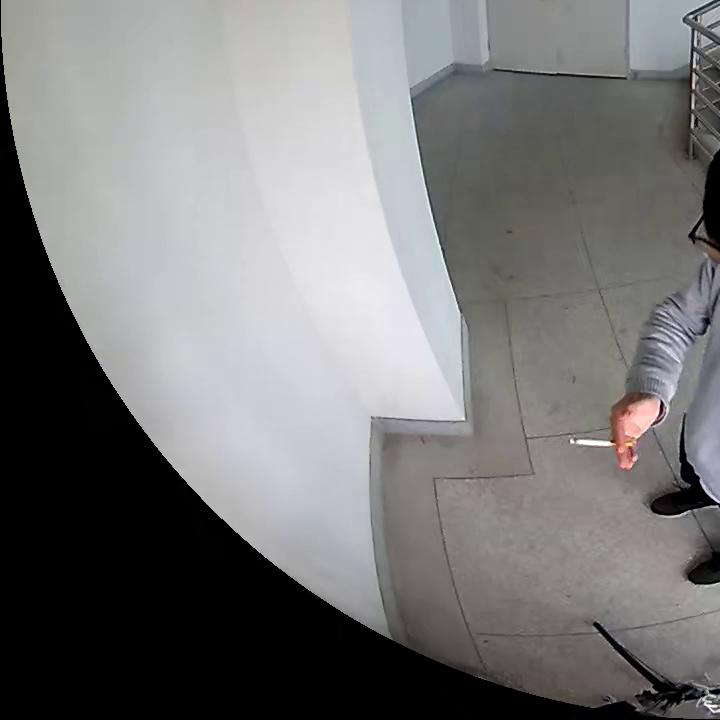handsmoke: (565, 397, 658, 470)
